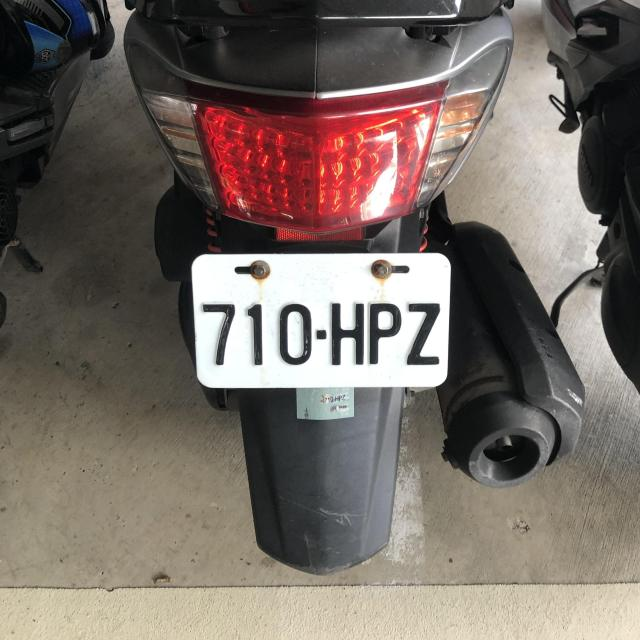W: (186, 246, 452, 392)
